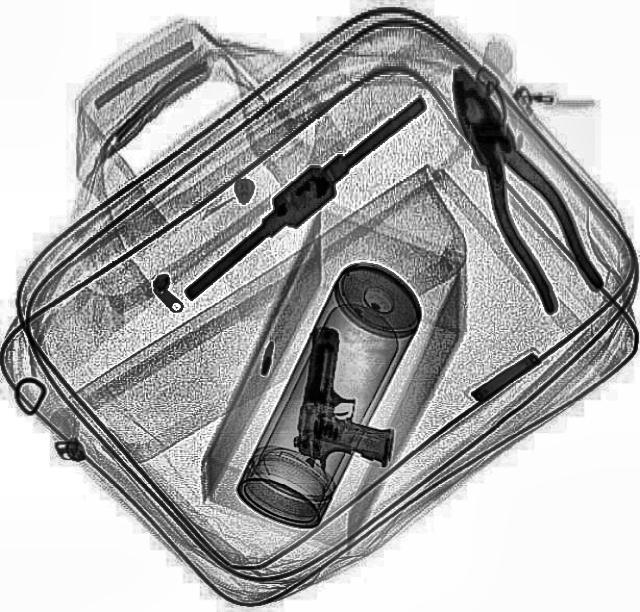Gun: (286, 322, 408, 478)
Pliers: (420, 54, 610, 314)
